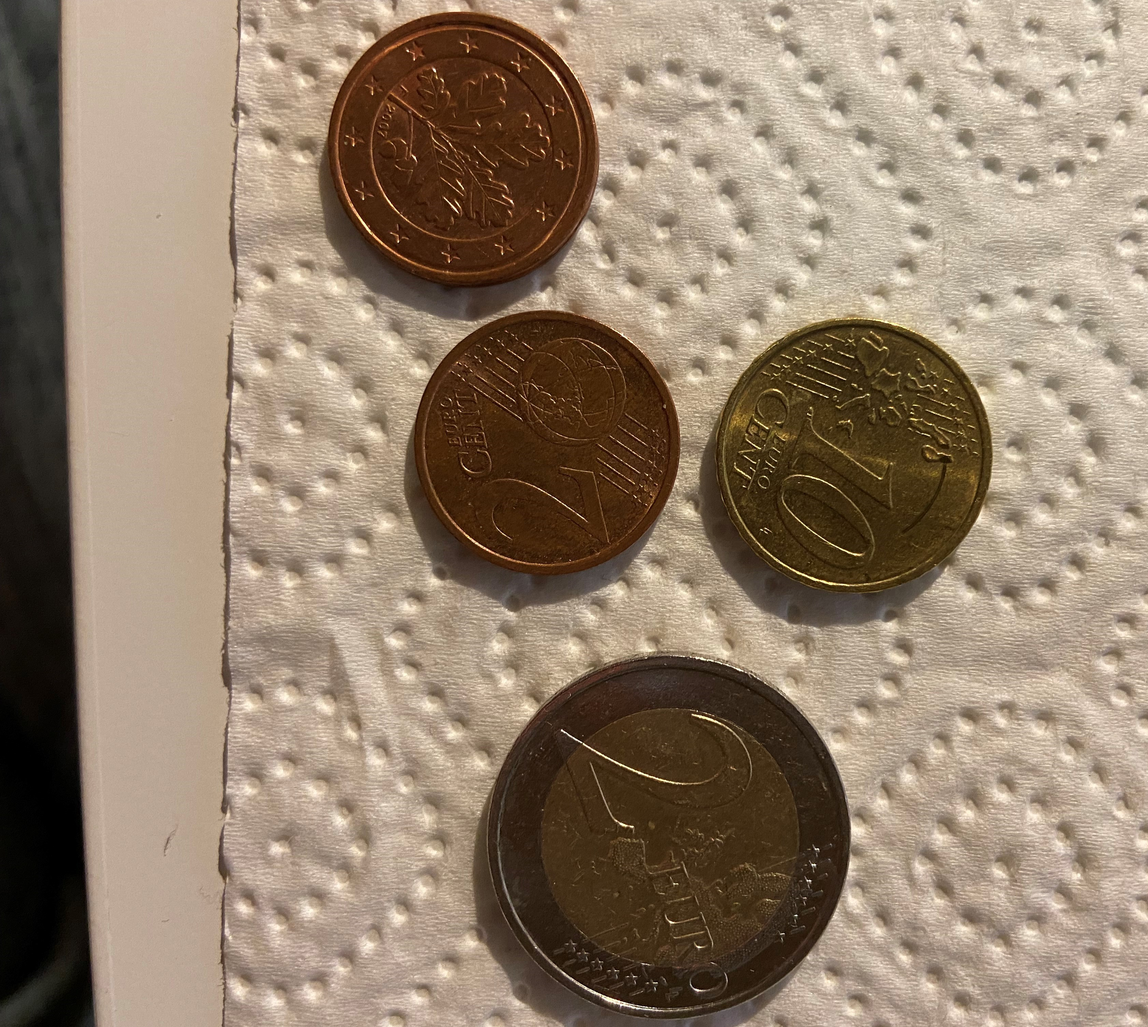10 cent: (715, 319, 992, 594)
2 cent: (328, 13, 599, 288), (414, 311, 680, 575)
2 euro: (467, 652, 862, 1027)
